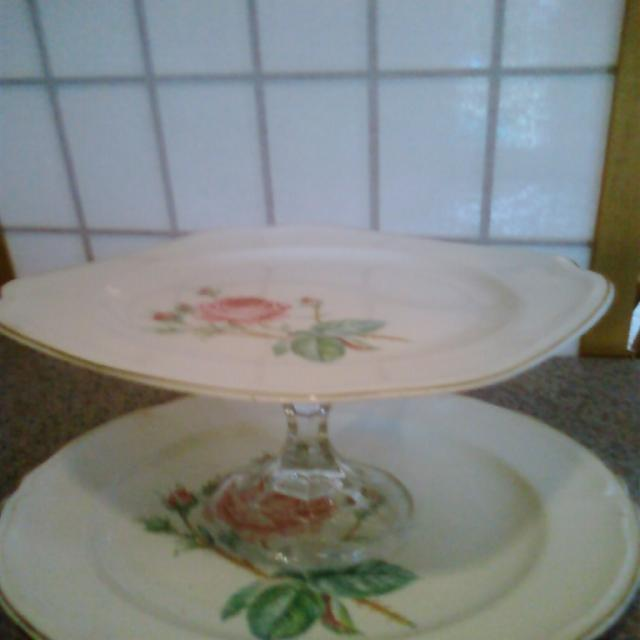non-organic waste: (15, 236, 577, 388)
